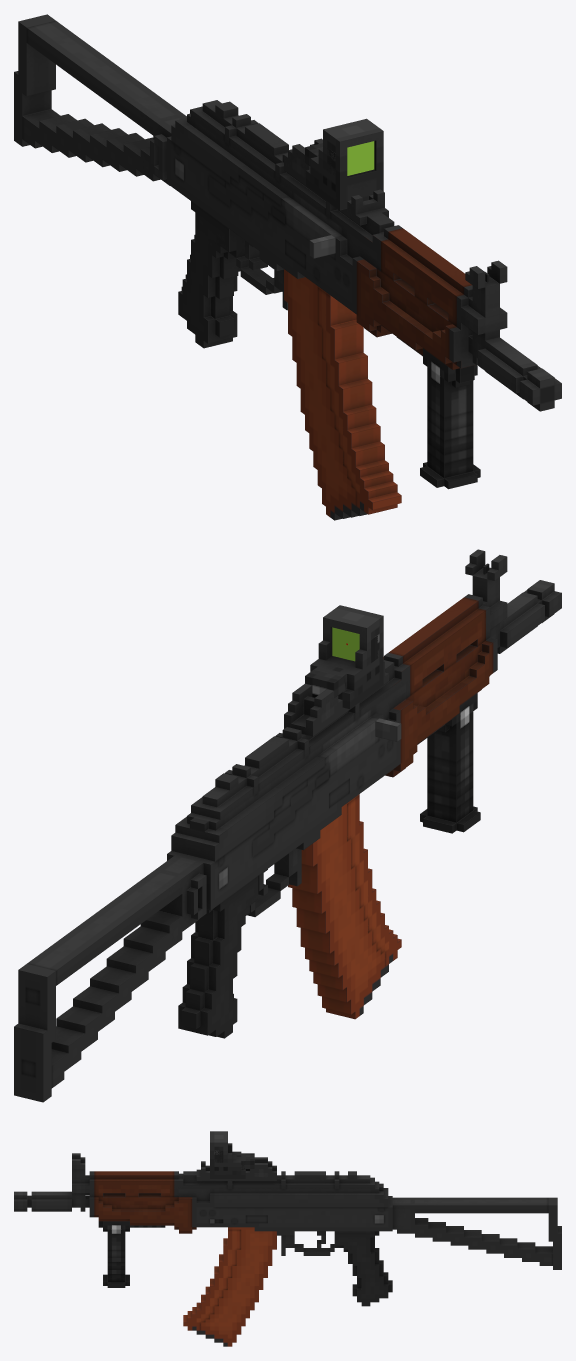
File: RD_AKSU.glb
3 renders of one model, top to bottom at view 1: azimuth 30°, elevation 25°; view 2: azimuth 150°, elevation 25°; view 3: azimuth 270°, elevation 25°, orthographic. The views are drawn at different scales.
Visible parts, largest first — view 1: AKS74U, AKS74U_CLIP, GRIP1, SCOPE_HOLOSUN; view 2: AKS74U, AKS74U_CLIP, GRIP1, SCOPE_HOLOSUN, SCOPE_AIMPOINT; view 3: AKS74U, AKS74U_CLIP, GRIP1, SCOPE_HOLOSUN, SCOPE_AIMPOINT.
Part boxes in pixels (x1=…): AKS74U: x1=14, y1=14, x2=561, y2=411; AKS74U_CLIP: x1=284, y1=269, x2=401, y2=520; GRIP1: x1=397, y1=337, x2=480, y2=489; SCOPE_HOLOSUN: x1=306, y1=118, x2=383, y2=210; AKS74U: x1=14, y1=549, x2=561, y2=1102; AKS74U_CLIP: x1=288, y1=794, x2=401, y2=1019; GRIP1: x1=417, y1=693, x2=480, y2=833; SCOPE_HOLOSUN: x1=310, y1=605, x2=383, y2=709; SCOPE_AIMPOINT: x1=305, y1=636, x2=378, y2=699; AKS74U: x1=14, y1=1153, x2=561, y2=1306; AKS74U_CLIP: x1=183, y1=1227, x2=276, y2=1346; GRIP1: x1=98, y1=1221, x2=165, y2=1287; SCOPE_HOLOSUN: x1=210, y1=1131, x2=245, y2=1178; SCOPE_AIMPOINT: x1=214, y1=1150, x2=254, y2=1170.
Bounding box in the file's own units: 0.0886 × 0.502 × 1.21.
5 materials, 5 textured.
